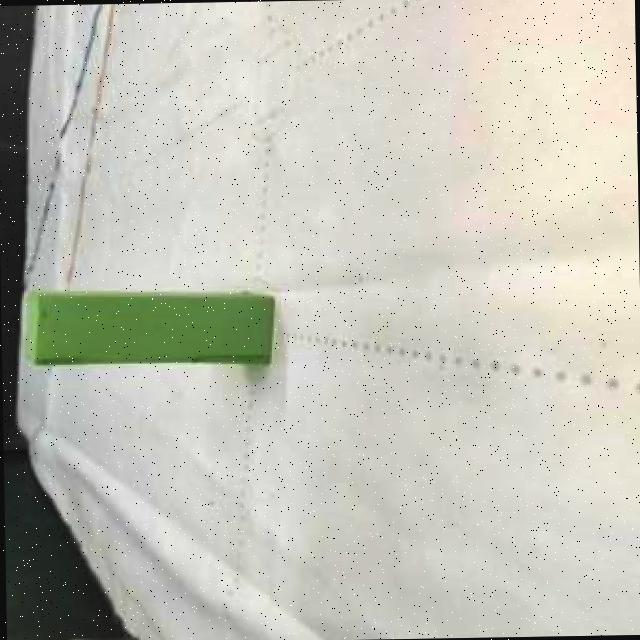greenbox: (15, 286, 274, 372)
